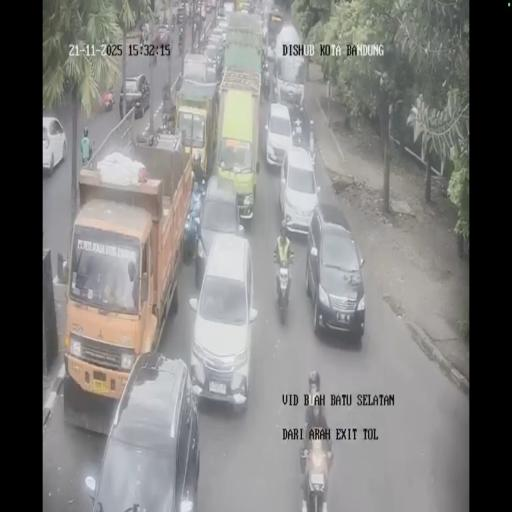car: (90, 354, 200, 510), (307, 205, 365, 338), (193, 174, 244, 282), (280, 144, 319, 238), (264, 102, 294, 170), (42, 116, 67, 176), (120, 73, 150, 119), (202, 41, 224, 81), (215, 15, 230, 39), (266, 40, 277, 72), (156, 23, 171, 42), (196, 0, 207, 17), (205, 0, 215, 13)
motorcycle: (299, 430, 333, 512), (272, 246, 294, 322), (161, 99, 176, 129), (81, 142, 94, 166), (262, 65, 270, 98), (103, 91, 114, 112), (177, 16, 185, 40), (149, 44, 157, 67), (192, 18, 198, 36), (139, 30, 145, 48), (171, 12, 176, 27)
truck: (173, 58, 220, 182), (221, 9, 265, 84), (274, 27, 306, 110), (266, 8, 283, 45), (222, 1, 235, 15), (238, 0, 250, 13)
